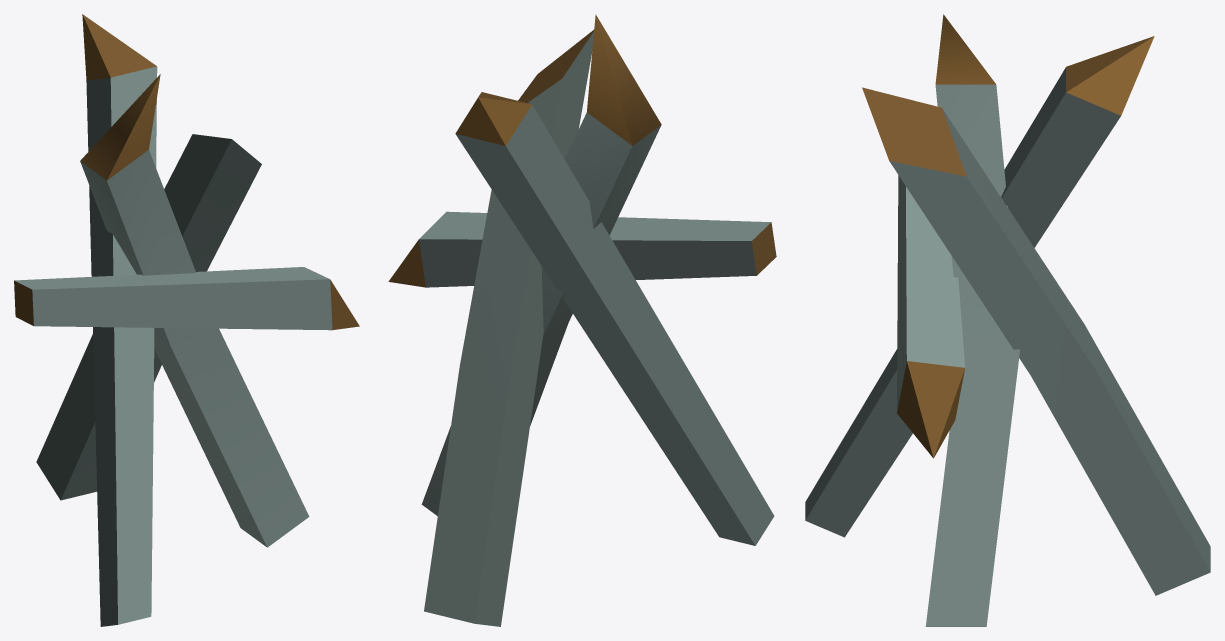
Rendered from Projectile_1_Boss_7_Cyclopus.fbx.
3 views of the same model, side by side, from view 1: azimuth 30°, elevation 25°; view 2: azimuth 150°, elevation 25°; view 3: azimuth 270°, elevation 25° (orthographic). The views are drawn at different scales.
Parts seen in each view (by area): view 1: Projectile_1_Boss_7_Cyclopus; view 2: Projectile_1_Boss_7_Cyclopus; view 3: Projectile_1_Boss_7_Cyclopus.
Boxes of the visible parts, bbox=[...] form: Projectile_1_Boss_7_Cyclopus: bbox=[14, 14, 359, 626]; Projectile_1_Boss_7_Cyclopus: bbox=[388, 14, 776, 626]; Projectile_1_Boss_7_Cyclopus: bbox=[805, 14, 1210, 626].
Size of the model in its own units: 0.0267 by 0.0371 by 0.0242.
